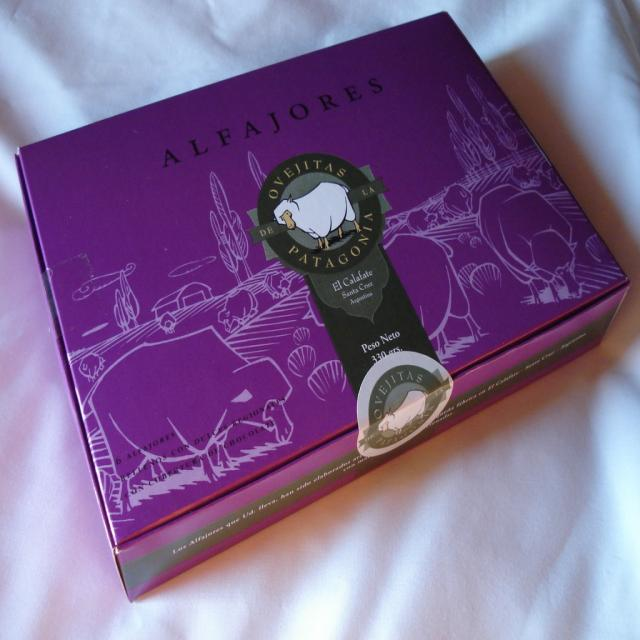Box: (14, 11, 632, 602)
